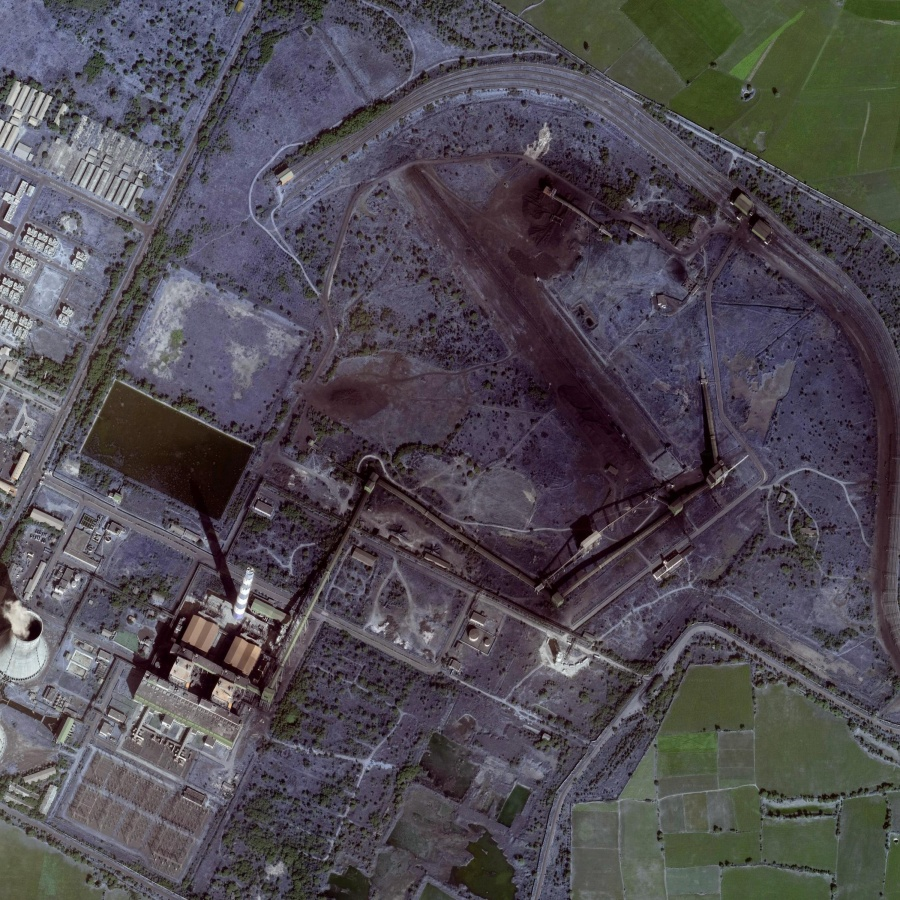PowerPlant: (365, 131, 691, 527)
